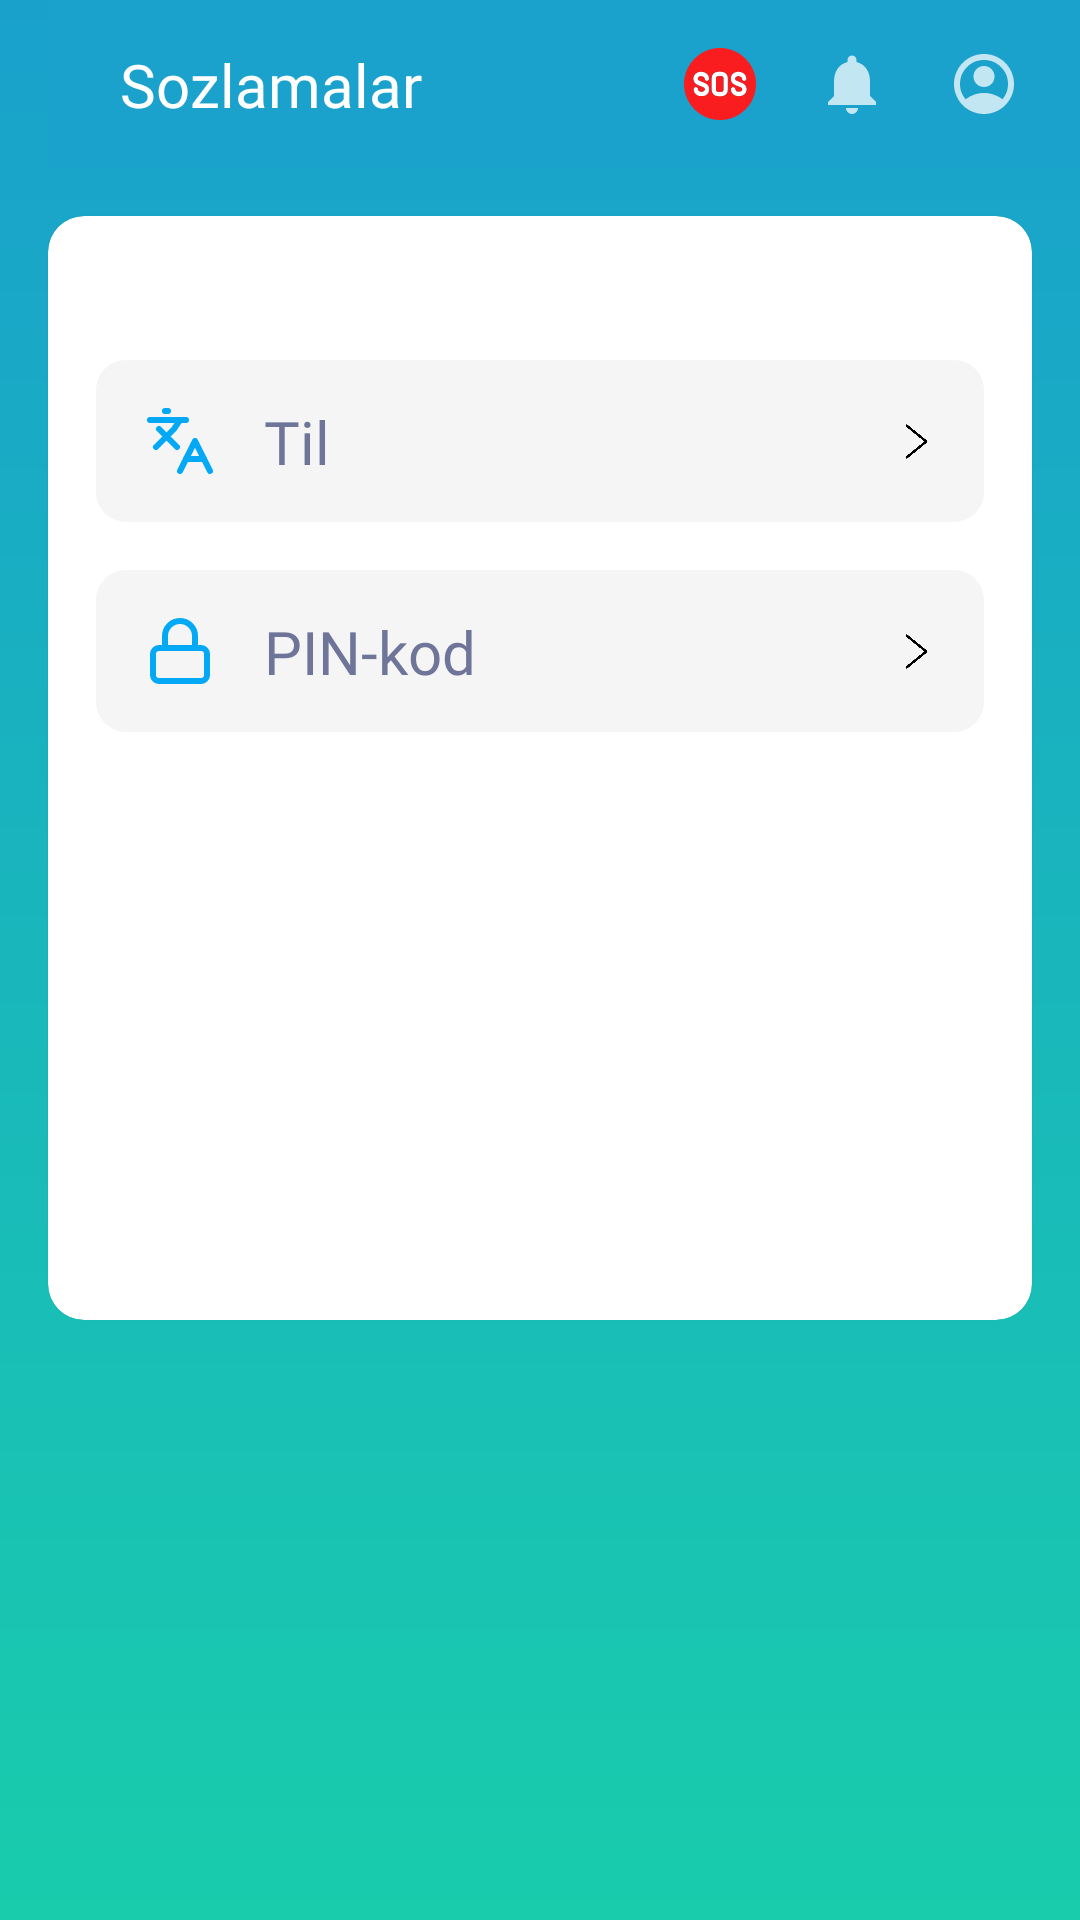

Icons on this 1080 x 1920 Android screen, each with its box as (x1=x1, y1=y1, x2=x2, y2=y2):
arrow right: (x1=906, y1=424, x2=927, y2=459), (x1=906, y1=634, x2=927, y2=669)
languages: (x1=147, y1=408, x2=213, y2=474)
lock: (x1=150, y1=618, x2=210, y2=684)
notifications: (x1=828, y1=55, x2=876, y2=114)
profile: (x1=954, y1=54, x2=1014, y2=114)
